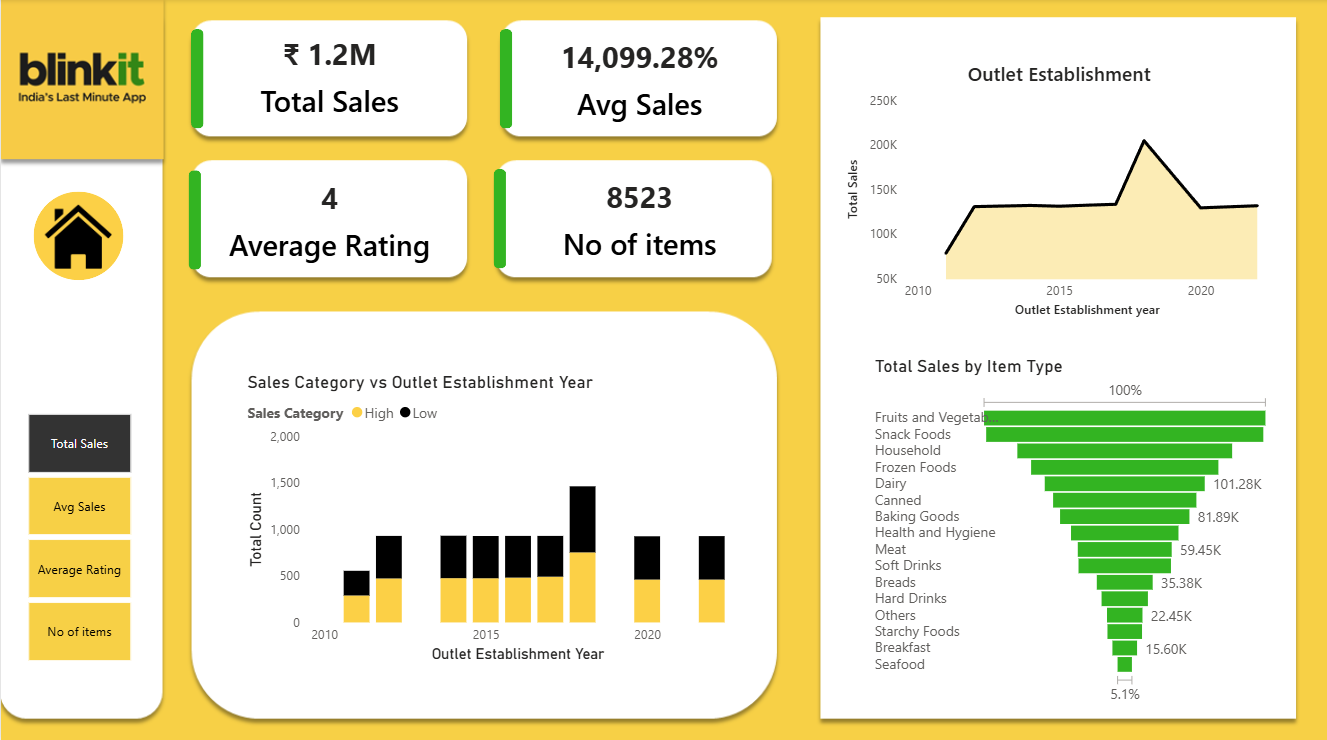

The page's visual inventory and layout, read from the dashboard file:
{"tool":"powerbi","page":{"name":"Page 2","canvas":[1280,720],"ordinal":1},"visuals":[{"type":"card","fields":{"Values":["BlinkIT Grocery Data.Total Sales"]},"box":[196.2,24.7,241.5,97.4],"z":0},{"type":"card","fields":{"Values":["BlinkIT Grocery Data.Avg Sales"]},"box":[495.4,26.1,241.5,97.4],"z":1000},{"type":"card","fields":{"Values":["BlinkIT Grocery Data.Average Rating"]},"box":[196.2,163.3,241.5,97.4],"z":2000},{"type":"card","fields":{"Values":["BlinkIT Grocery Data.No of items"]},"box":[495.4,161.9,241.5,97.4],"z":3000},{"type":"shape","box":[481.6,29.1,12.3,96.1],"z":4000},{"type":"shape","box":[180.9,164.9,12.3,96.1],"z":5000},{"type":"shape","box":[475.9,164.7,12.3,96.1],"z":6000},{"type":"shape","box":[182.8,28.5,12.3,96.1],"z":7000},{"type":"areaChart","title":"Outlet Establishment","fields":{"Y":["BlinkIT Grocery Data.Total Sales"],"Category":["BlinkIT Grocery Data.Outlet Establishment Year"]},"box":[811.9,59.6,418.7,253.6],"z":9000},{"type":"slicer","fields":{"Values":["Metric Selector.Metric Selector"]},"box":[0,393.8,149.6,252.5],"z":12000},{"type":"shape","box":[31.4,185.8,86.9,85.7],"z":13000},{"type":"image","box":[42.2,197.9,65.1,63.9],"z":14000},{"type":"columnChart","title":"Sales Category vs Outlet Establishment Year","fields":{"Category":["BlinkIT Grocery Data.Outlet Establishment Year"],"Series":["BlinkIT Grocery Data.Sales Category"],"Y":["CountNonNull(BlinkIT Grocery Data.Outlet Identifier)"]},"box":[232.8,359.5,472.9,285.9],"z":15000},{"type":"funnel","fields":{"Category":["BlinkIT Grocery Data.Item Type"],"Y":["BlinkIT Grocery Data.Total Sales"]},"box":[838.5,343.8,392.1,340.2],"z":16000}]}

Visuals, with their boxes in screenshot pixels (x1, y1, x2, y2), scaled from the page's 1280x720 canvas onto the 1327x740 screenshot:
card - BlinkIT Grocery Data.Total Sales: <bbox>203, 25, 454, 125</bbox>
card - BlinkIT Grocery Data.Avg Sales: <bbox>514, 27, 764, 127</bbox>
card - BlinkIT Grocery Data.Average Rating: <bbox>203, 168, 454, 268</bbox>
card - BlinkIT Grocery Data.No of items: <bbox>514, 166, 764, 267</bbox>
shape: <bbox>499, 30, 512, 129</bbox>
shape: <bbox>188, 169, 200, 268</bbox>
shape: <bbox>493, 169, 506, 268</bbox>
shape: <bbox>190, 29, 202, 128</bbox>
"Outlet Establishment" areaChart: <bbox>842, 61, 1276, 322</bbox>
slicer - Metric Selector.Metric Selector: <bbox>0, 405, 155, 664</bbox>
shape: <bbox>33, 191, 123, 279</bbox>
image: <bbox>44, 203, 111, 269</bbox>
"Sales Category vs Outlet Establishment Year" columnChart: <bbox>241, 369, 732, 663</bbox>
funnel - BlinkIT Grocery Data.Item Type x BlinkIT Grocery Data.Total Sales: <bbox>869, 353, 1276, 703</bbox>
